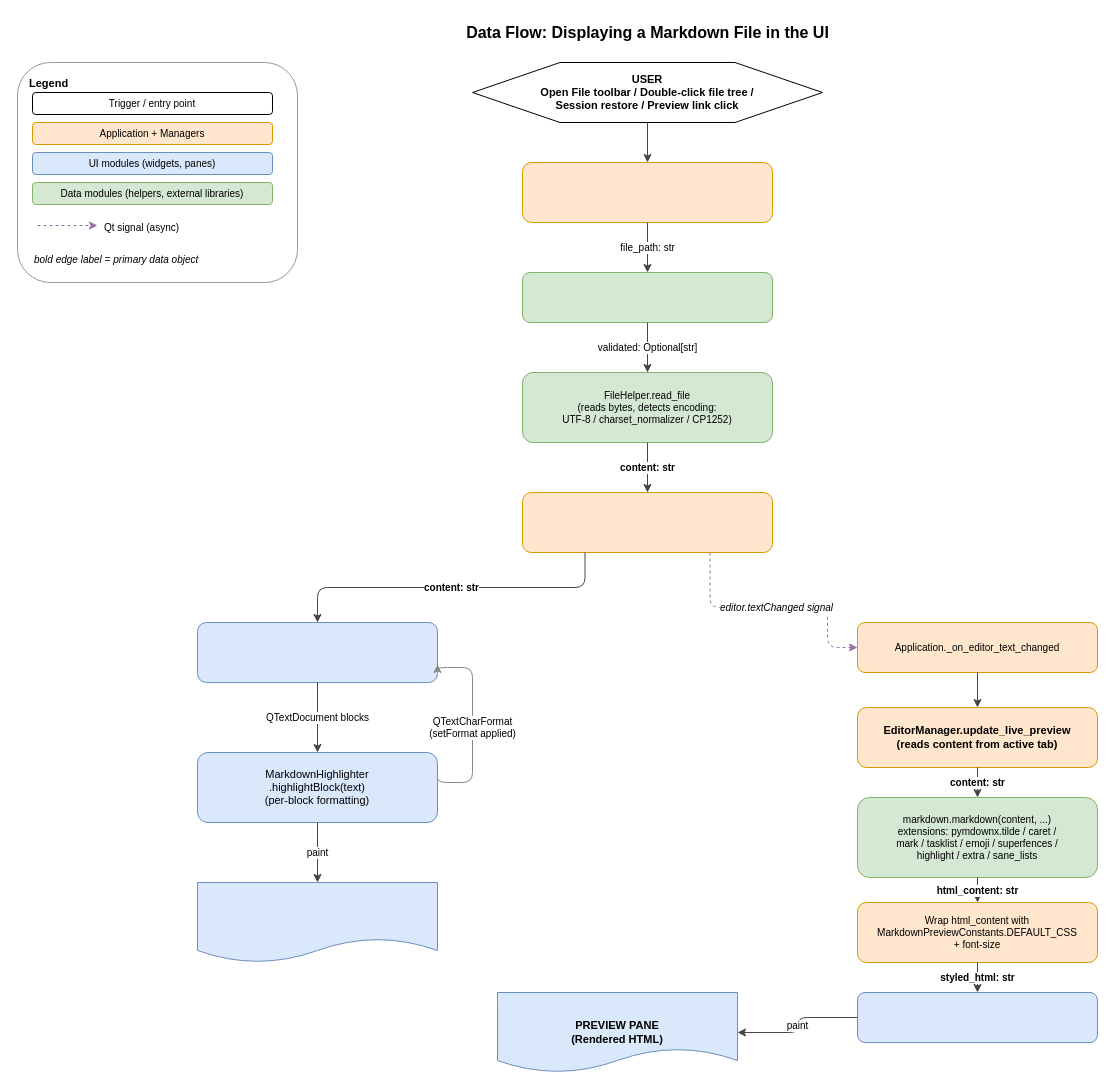
Image size: 1115x1090. Some labels were removed from this diagram. Here are the shapes that lost their labels. From the top down, the centre of each, then its label:
the point at 647,192: FileManager.load_markdown_file (file_path)
the point at 647,297: FileHelper.validate_file
the point at 647,522: TabManager.load_file_into_tab (reuses existing tab or add_new_tab)
the point at 317,652: MarkdownEditorWidget .setPlainText(content)
the point at 317,922: EDITOR PANE (Syntax-coloured markdown text)
the point at 977,1017: QTextBrowser.setHtml(styled_html)
